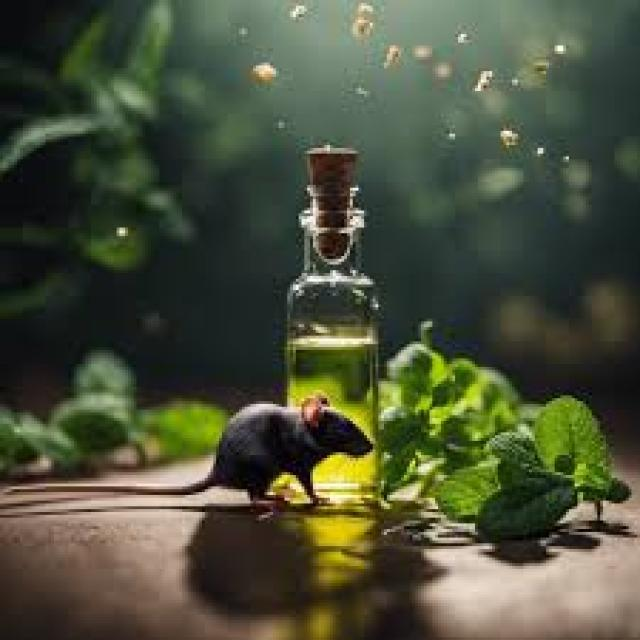Rat: (19, 374, 375, 524)
